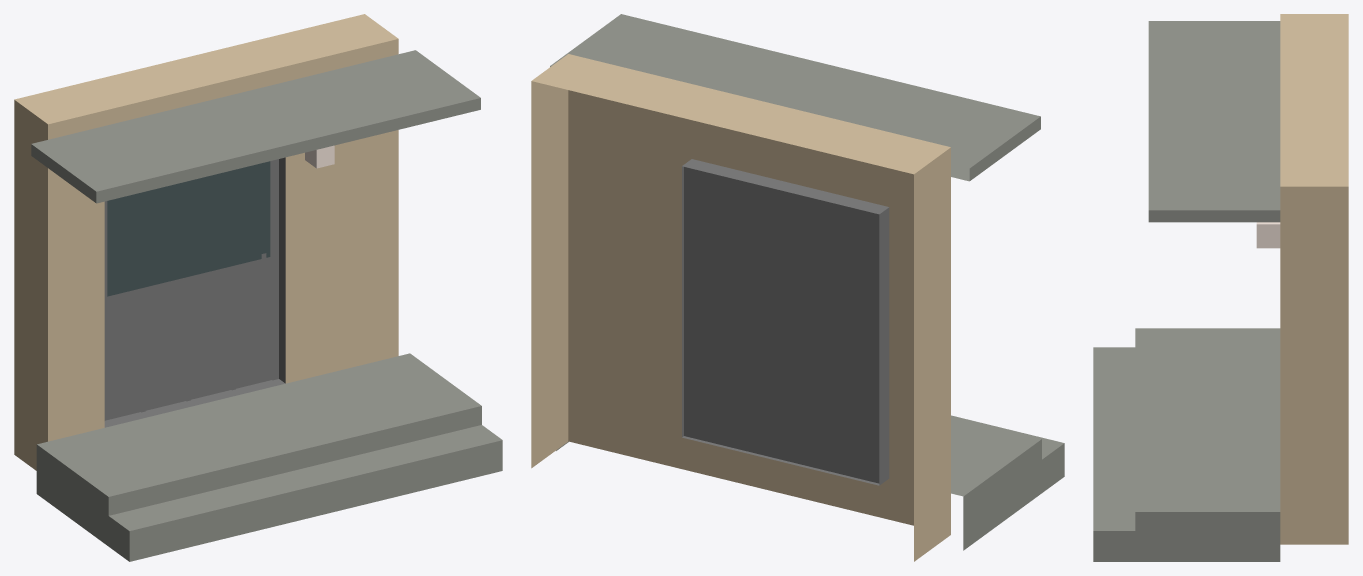
File: entrance.fbx
3 views of the same model, side by side, from view 1: azimuth 30°, elevation 25°; view 2: azimuth 150°, elevation 25°; view 3: azimuth 270°, elevation 25° (orthographic). The views are drawn at different scales.
Visible parts, largest first — view 1: a2000/400/entrance; view 2: a2000/400/entrance; view 3: a2000/400/entrance.
Part boxes in pixels (left/top/right/bottom): a2000/400/entrance: left=14, top=14, right=502, bottom=561; a2000/400/entrance: left=531, top=14, right=1064, bottom=561; a2000/400/entrance: left=1093, top=14, right=1348, bottom=561.
Bounding box in the file's own units: 3.4 × 3.1 × 1.94.
